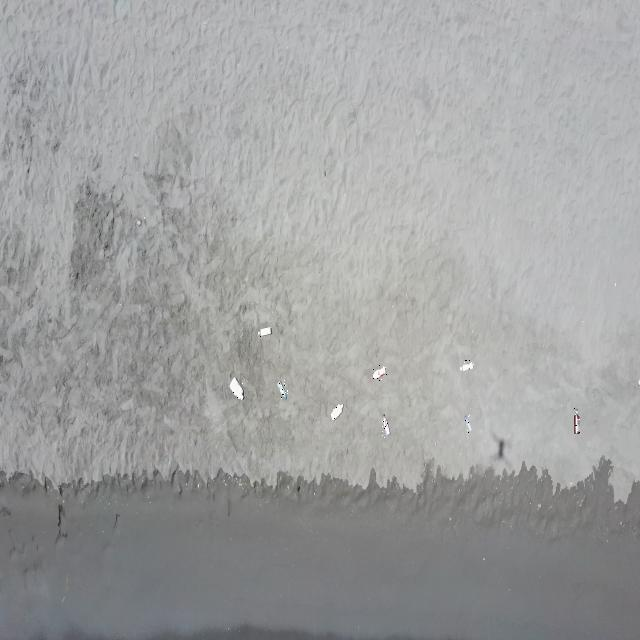plastic-bottle: (230, 377, 244, 402), (330, 402, 344, 423), (371, 366, 387, 382), (278, 380, 288, 400), (382, 413, 390, 438), (257, 325, 273, 337), (574, 406, 580, 436), (460, 360, 474, 372), (464, 415, 472, 433)
